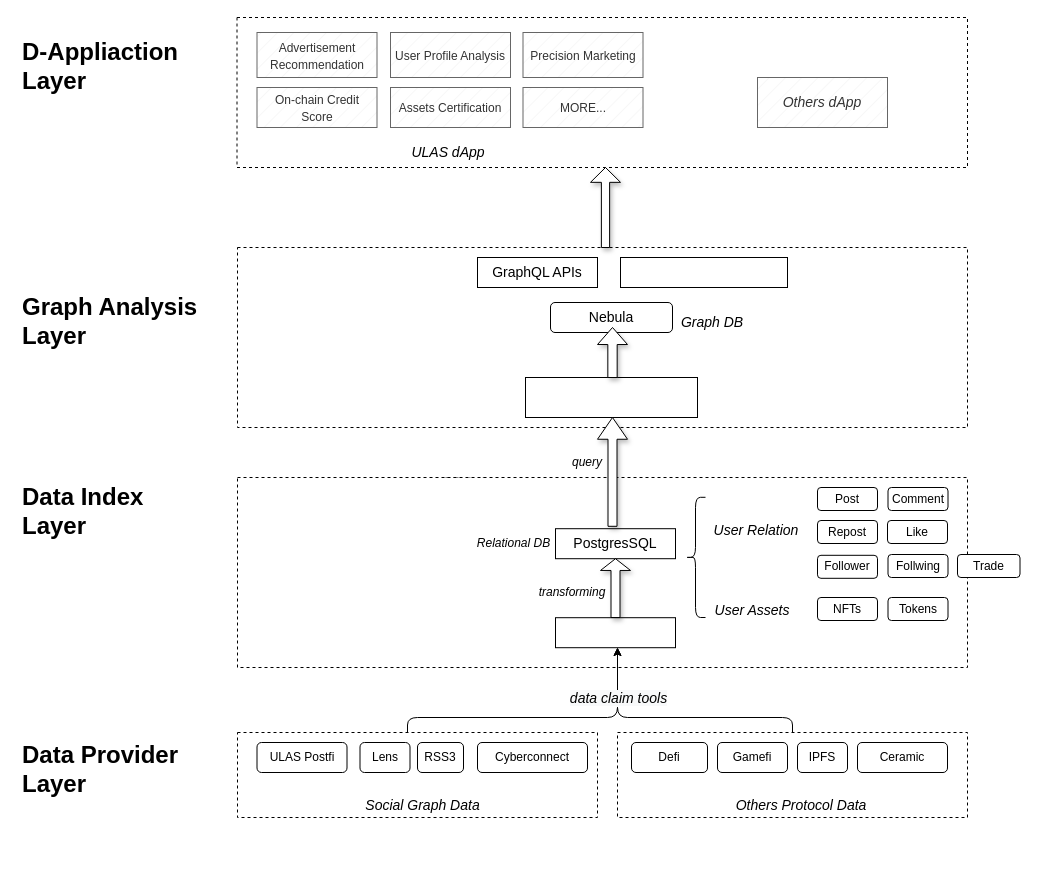
Image size: 1037x892. Some labels were removed from this diagram. Each missing label, with the centre of its shape:
"Aggregator" goes at (x=615, y=632).
"Algorithm Computation" goes at (x=611, y=397).
"Graph Query Component" goes at (x=704, y=272).
